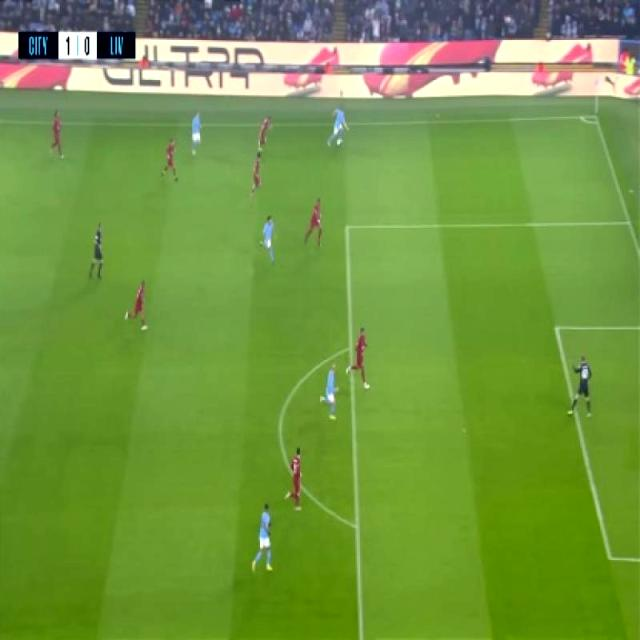bigarea_top_inner: (337, 216, 355, 238)
bigarea_top_outter: (620, 211, 635, 231)
bottom_arc_area_intersection: (346, 511, 366, 539)
corner: (582, 108, 603, 126)
smallarea_bottom_inner: (598, 540, 618, 570)
smallarea_top_inner: (546, 315, 566, 340)
top_arc_area_intersection: (340, 335, 357, 360)
